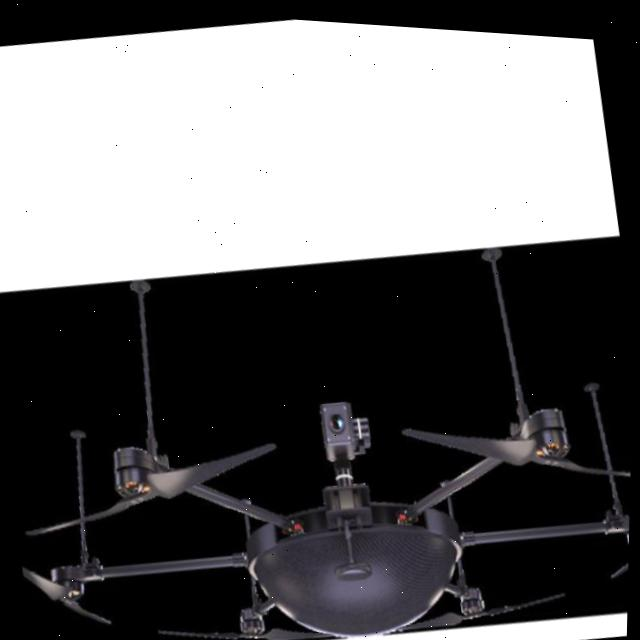drones: (0, 146, 637, 640)
